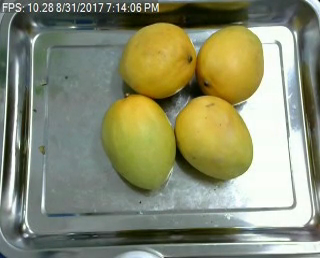Mango: (99, 91, 174, 191), (173, 94, 254, 179), (115, 20, 196, 98), (194, 24, 264, 106)
